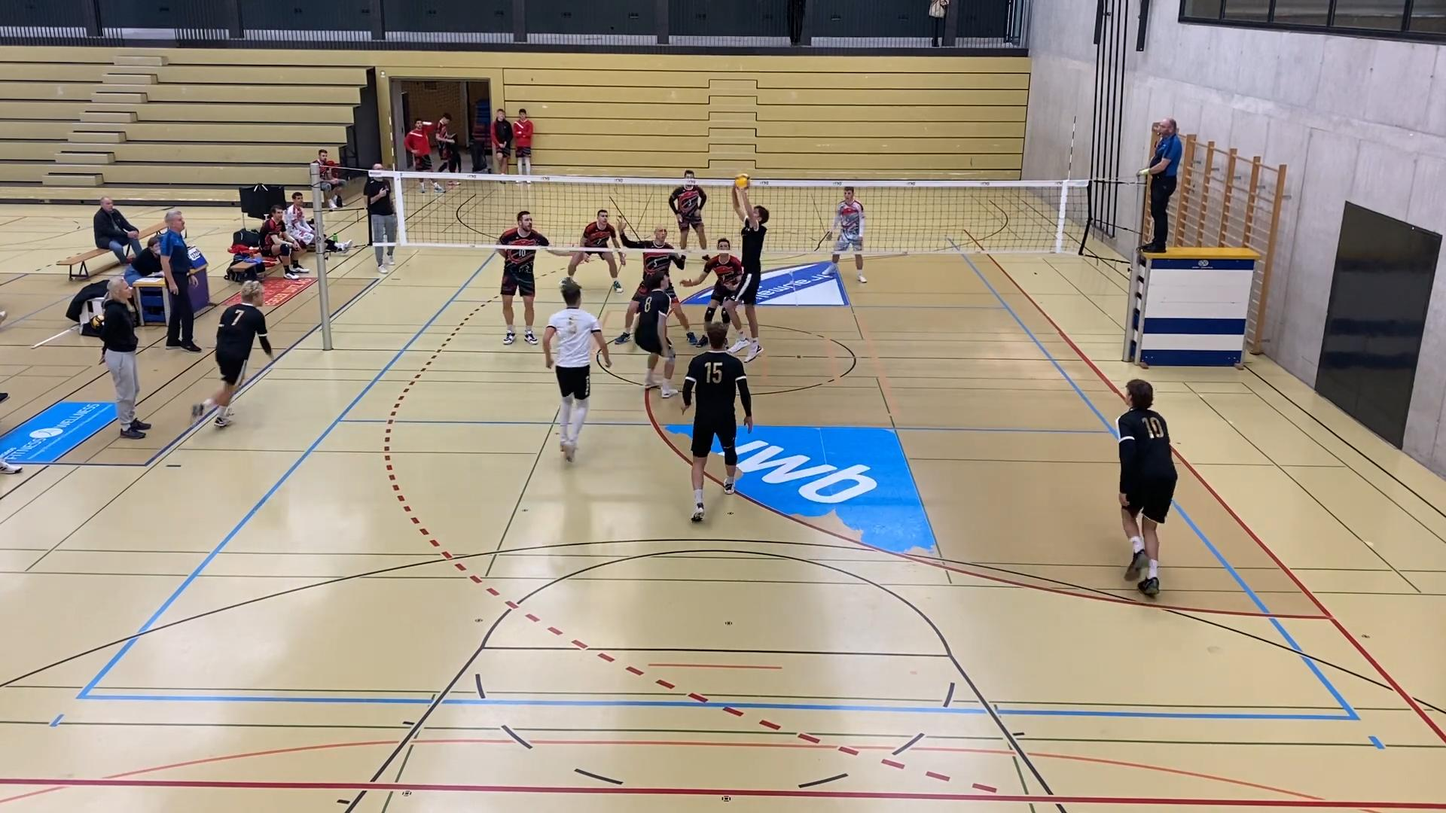Player: (682, 322, 753, 521), (1117, 379, 1176, 595), (541, 279, 611, 461), (191, 280, 272, 427), (614, 218, 685, 343), (496, 210, 549, 344), (682, 238, 743, 335), (635, 268, 675, 397), (567, 209, 625, 292), (830, 186, 866, 282), (668, 170, 706, 251)
Set: (728, 180, 770, 364)
ball: (735, 175, 749, 186)
